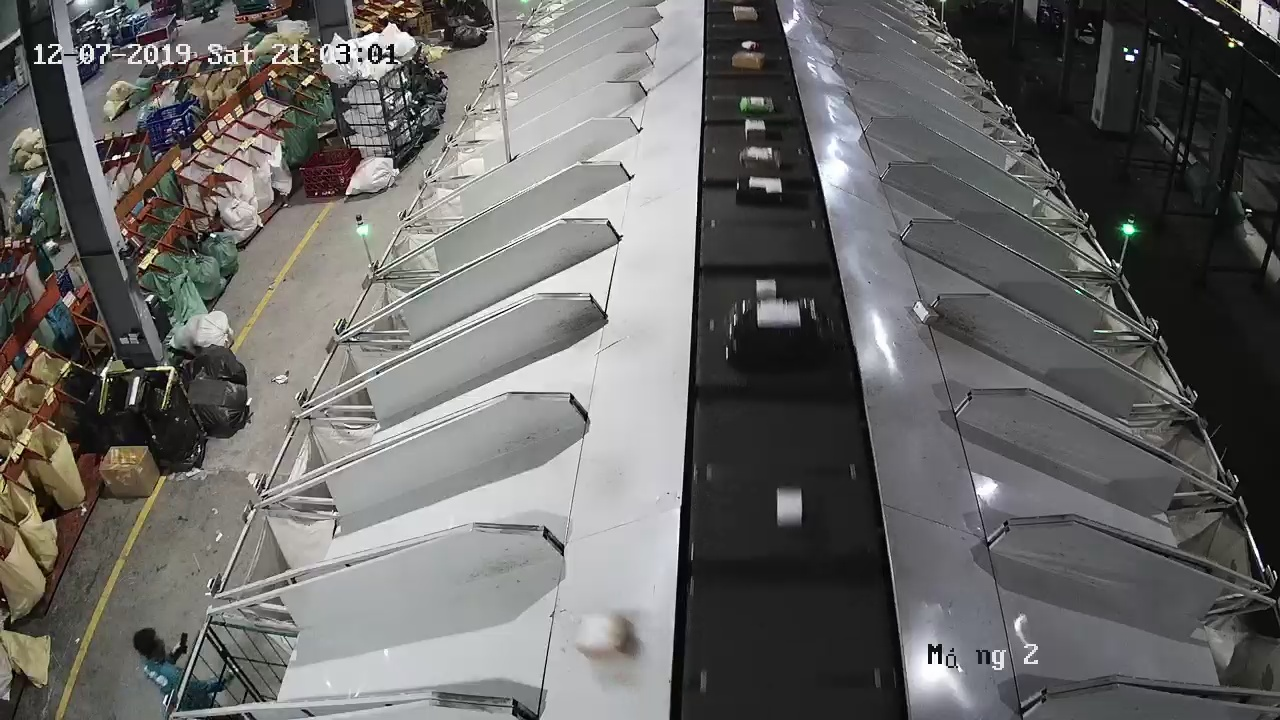parcel: (574, 613, 635, 660)
